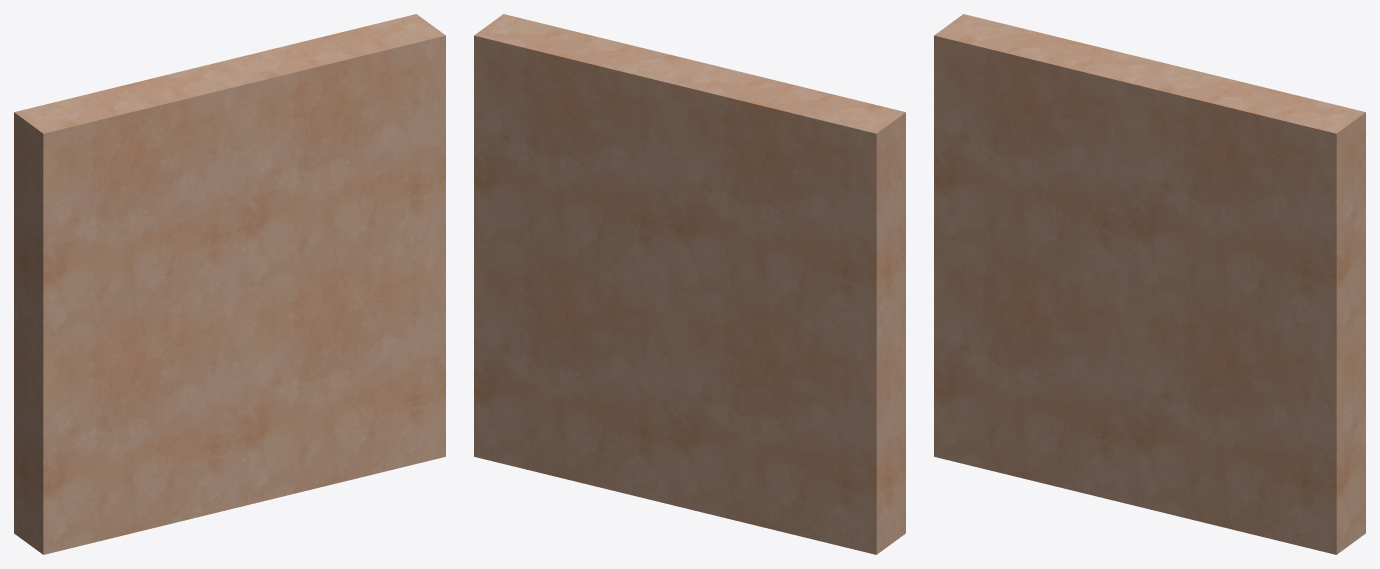
The picture shows the model from 3 angles, left to right: view 1: azimuth 30°, elevation 25°; view 2: azimuth 150°, elevation 25°; view 3: azimuth 330°, elevation 25°; orthographic projection.
Visible parts, largest first — view 1: SM_BB_T4_Wall_Large_03_LOD0; view 2: SM_BB_T4_Wall_Large_03_LOD0; view 3: SM_BB_T4_Wall_Large_03_LOD0.
Boxes of the visible parts, bbox=[...] form: SM_BB_T4_Wall_Large_03_LOD0: bbox=[14, 14, 445, 554]; SM_BB_T4_Wall_Large_03_LOD0: bbox=[474, 14, 905, 554]; SM_BB_T4_Wall_Large_03_LOD0: bbox=[934, 14, 1365, 554].
Size of the model in its own units: 3 by 3 by 0.3805.
1 material, 1 textured.
